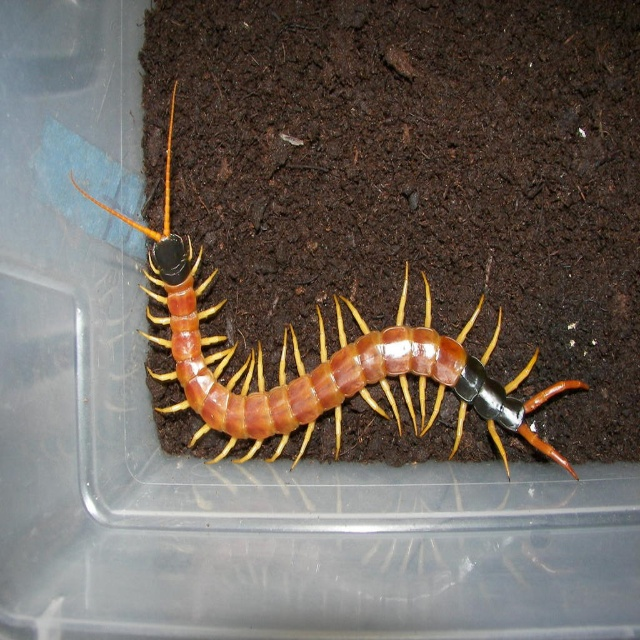Centipede: (68, 85, 592, 483)
